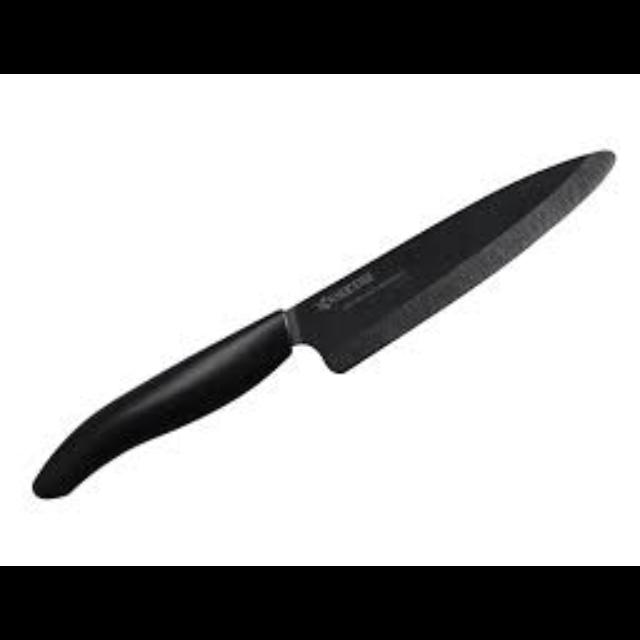knife: (30, 147, 614, 499)
